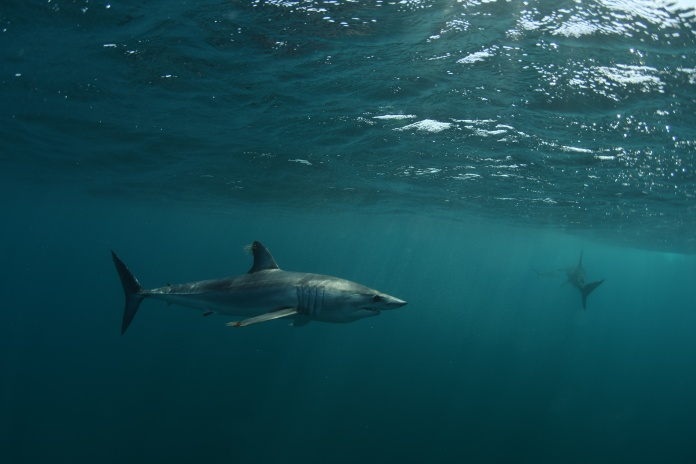Mako: (100, 232, 414, 344)
